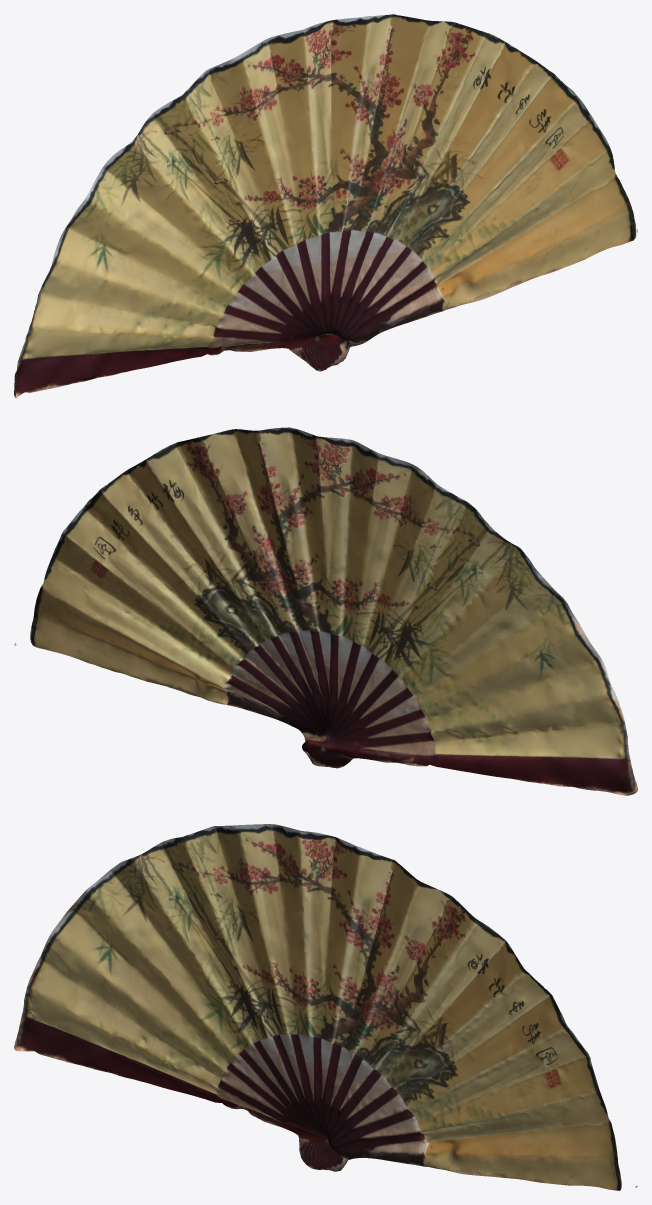
The picture shows the model from 3 angles, top to bottom: view 1: azimuth 30°, elevation 25°; view 2: azimuth 150°, elevation 25°; view 3: azimuth 330°, elevation 25°; orthographic projection. The views are drawn at different scales.
Parts seen in each view (by area): view 1: mainMeshNode; view 2: mainMeshNode; view 3: mainMeshNode.
Boxes of the visible parts, x1,y1,x2,y2 form: mainMeshNode: [14, 14, 637, 398]; mainMeshNode: [14, 427, 637, 795]; mainMeshNode: [14, 824, 637, 1190].
Bounding box in the file's own units: 40.31 × 20.99 × 1.88.
1 material, 1 textured.
